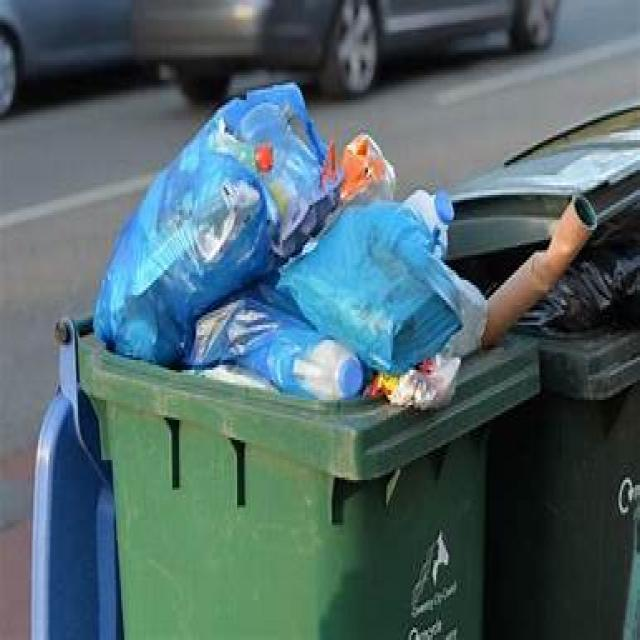Garbage: (94, 85, 640, 408)
Metal: (481, 194, 596, 349)
Plastic: (199, 83, 395, 259), (190, 283, 321, 393), (255, 141, 274, 173)
Plastic_Bag: (278, 202, 488, 404), (95, 130, 275, 365), (520, 211, 640, 331)
Plastic_bottle: (292, 339, 364, 401), (404, 190, 454, 258)
